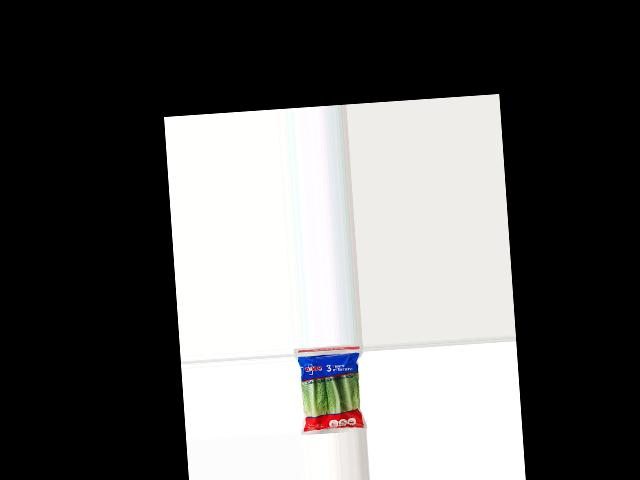lettuce: (294, 348, 365, 435)
